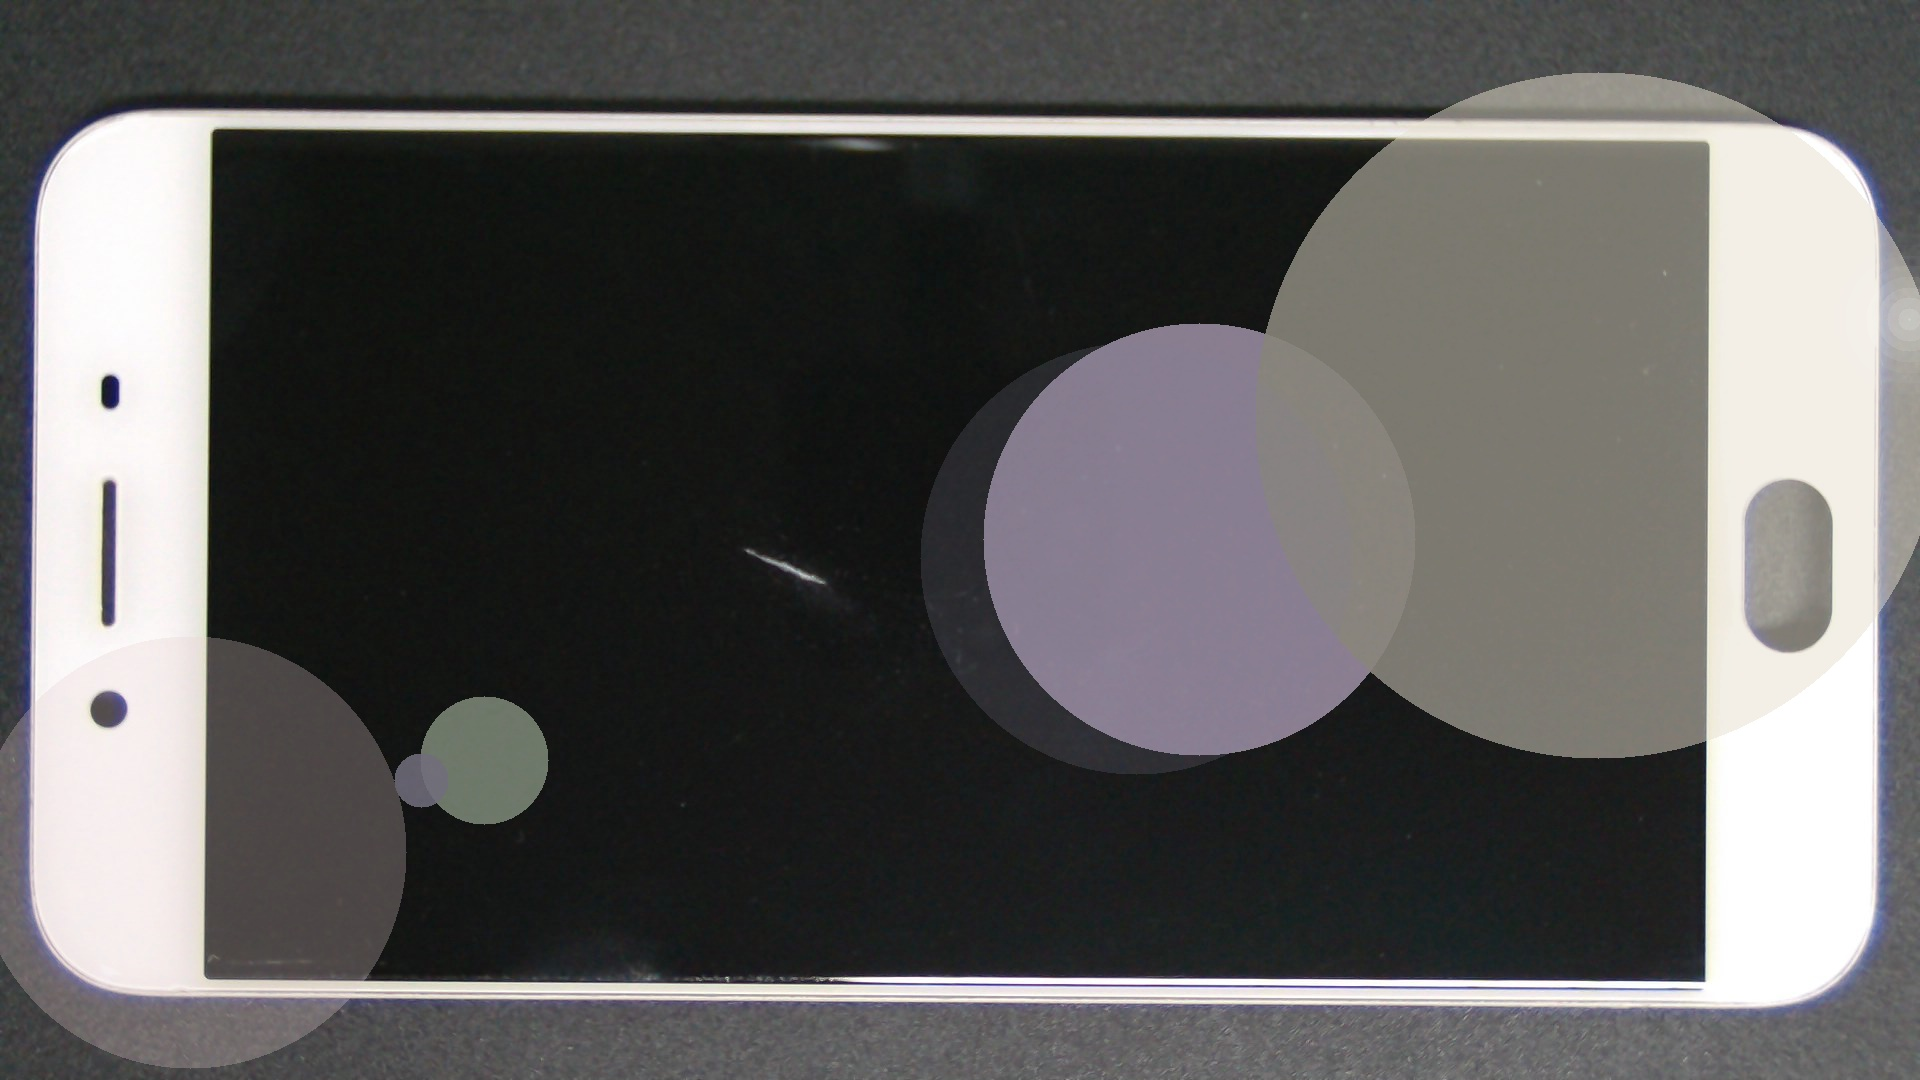oil: (377, 273, 1127, 822)
